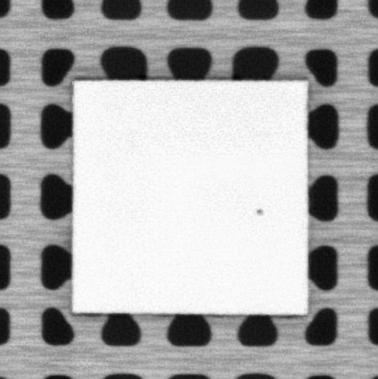DIE_INK: (253, 204, 266, 218)
